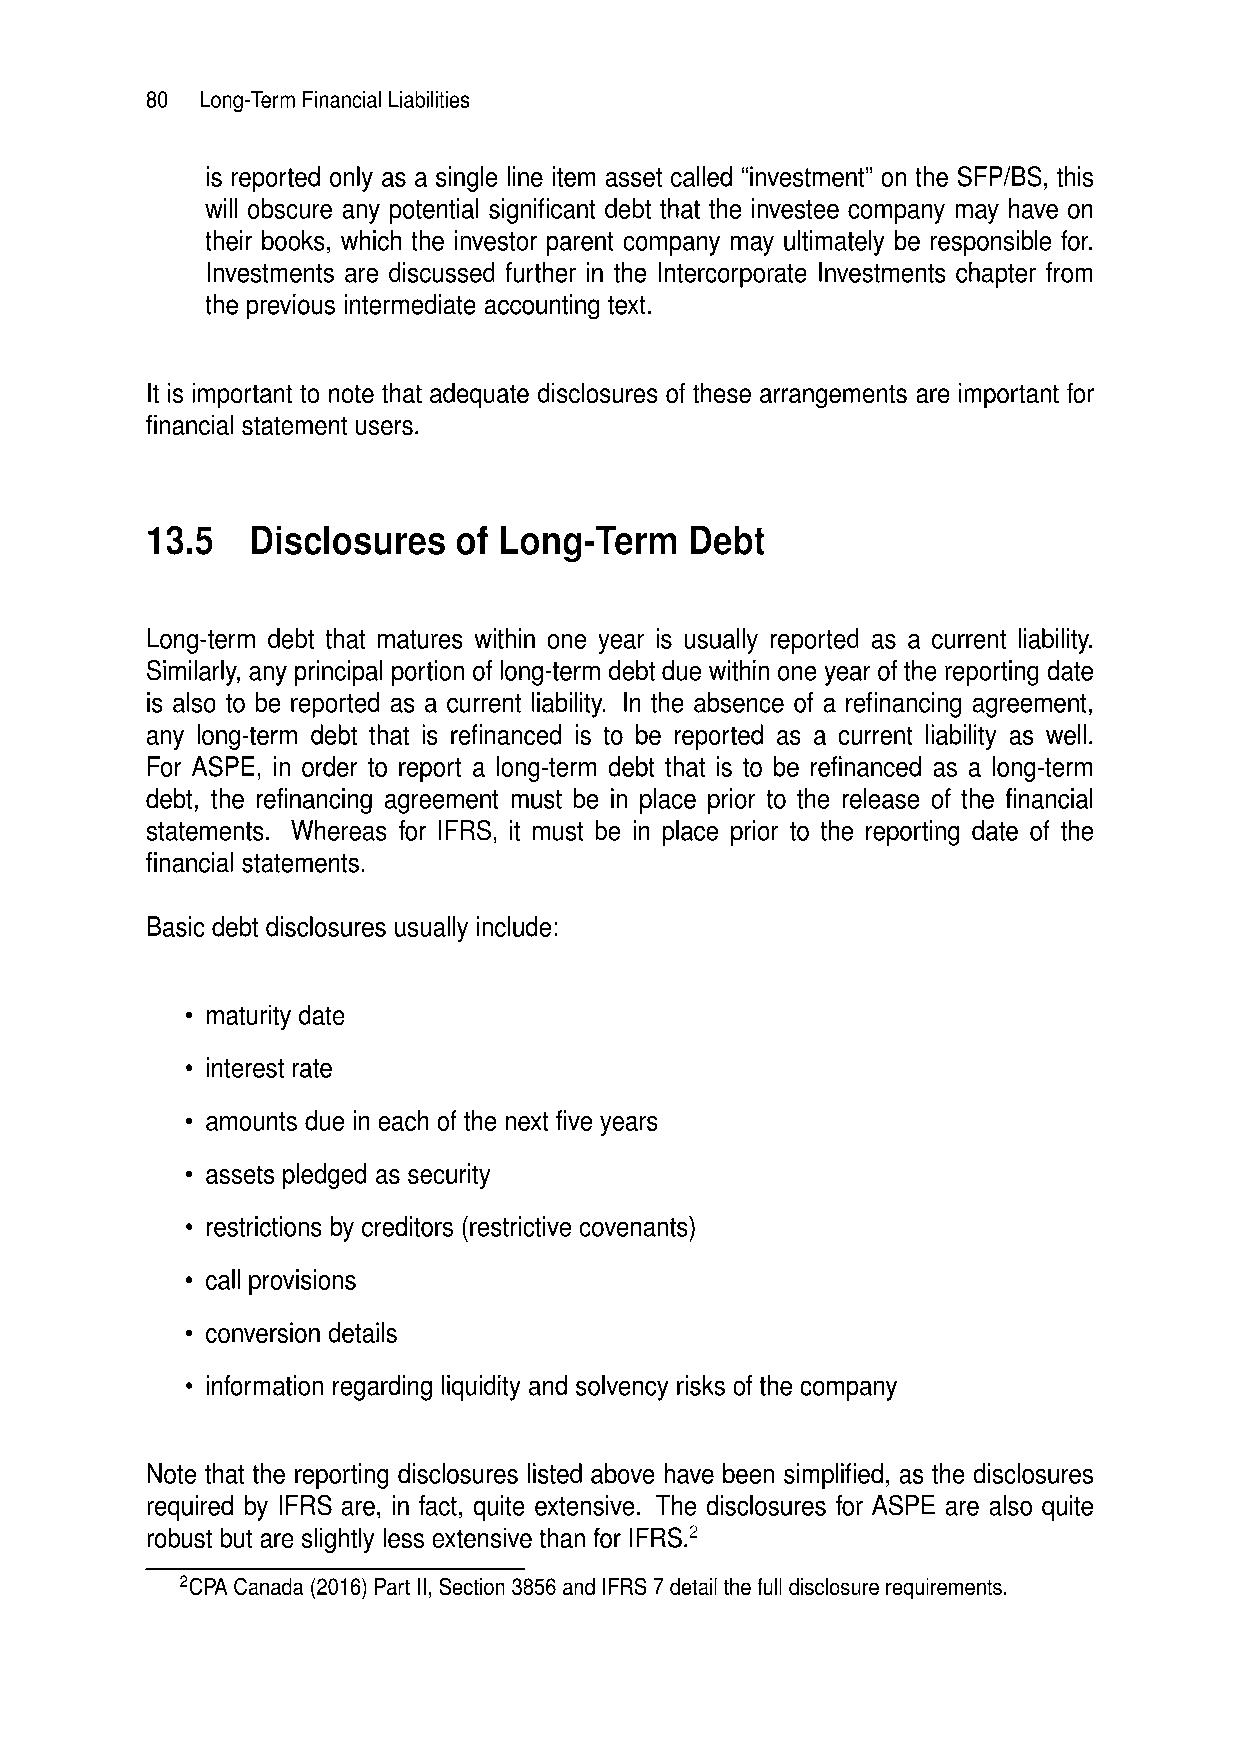chapter: (144, 515, 770, 564)
content: (141, 620, 1096, 1601), (197, 157, 1094, 319), (144, 378, 1100, 440)
content_chapter: (195, 86, 471, 111)
content_pagenumber: (141, 83, 168, 110)
